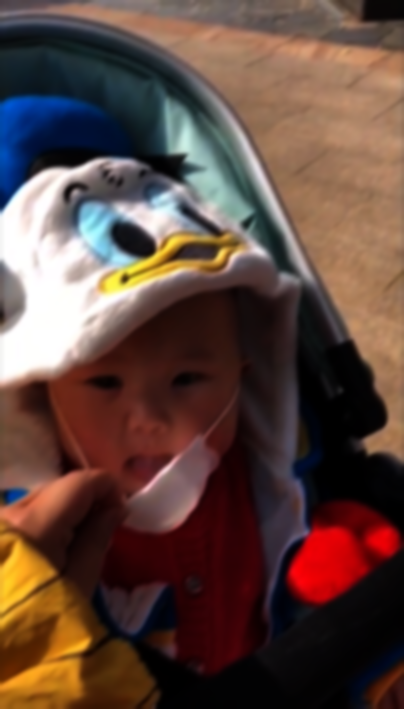mask_weared_incorrect: (35, 272, 258, 539)
